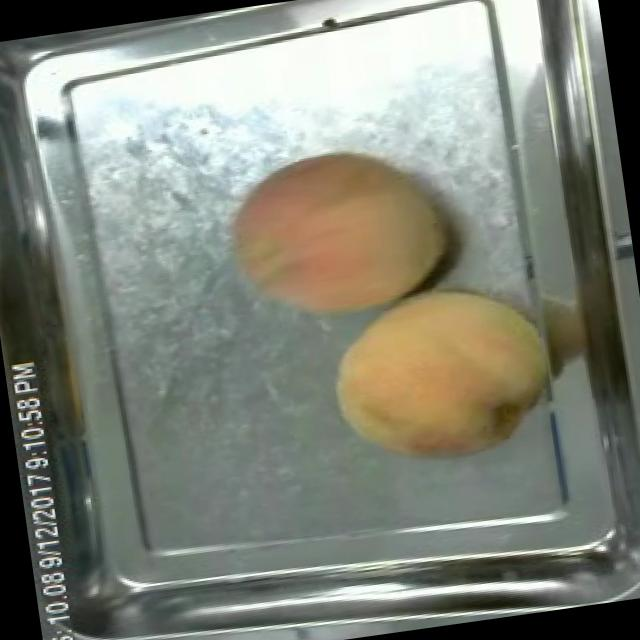Fruit: (314, 266, 562, 480), (215, 130, 464, 342)
